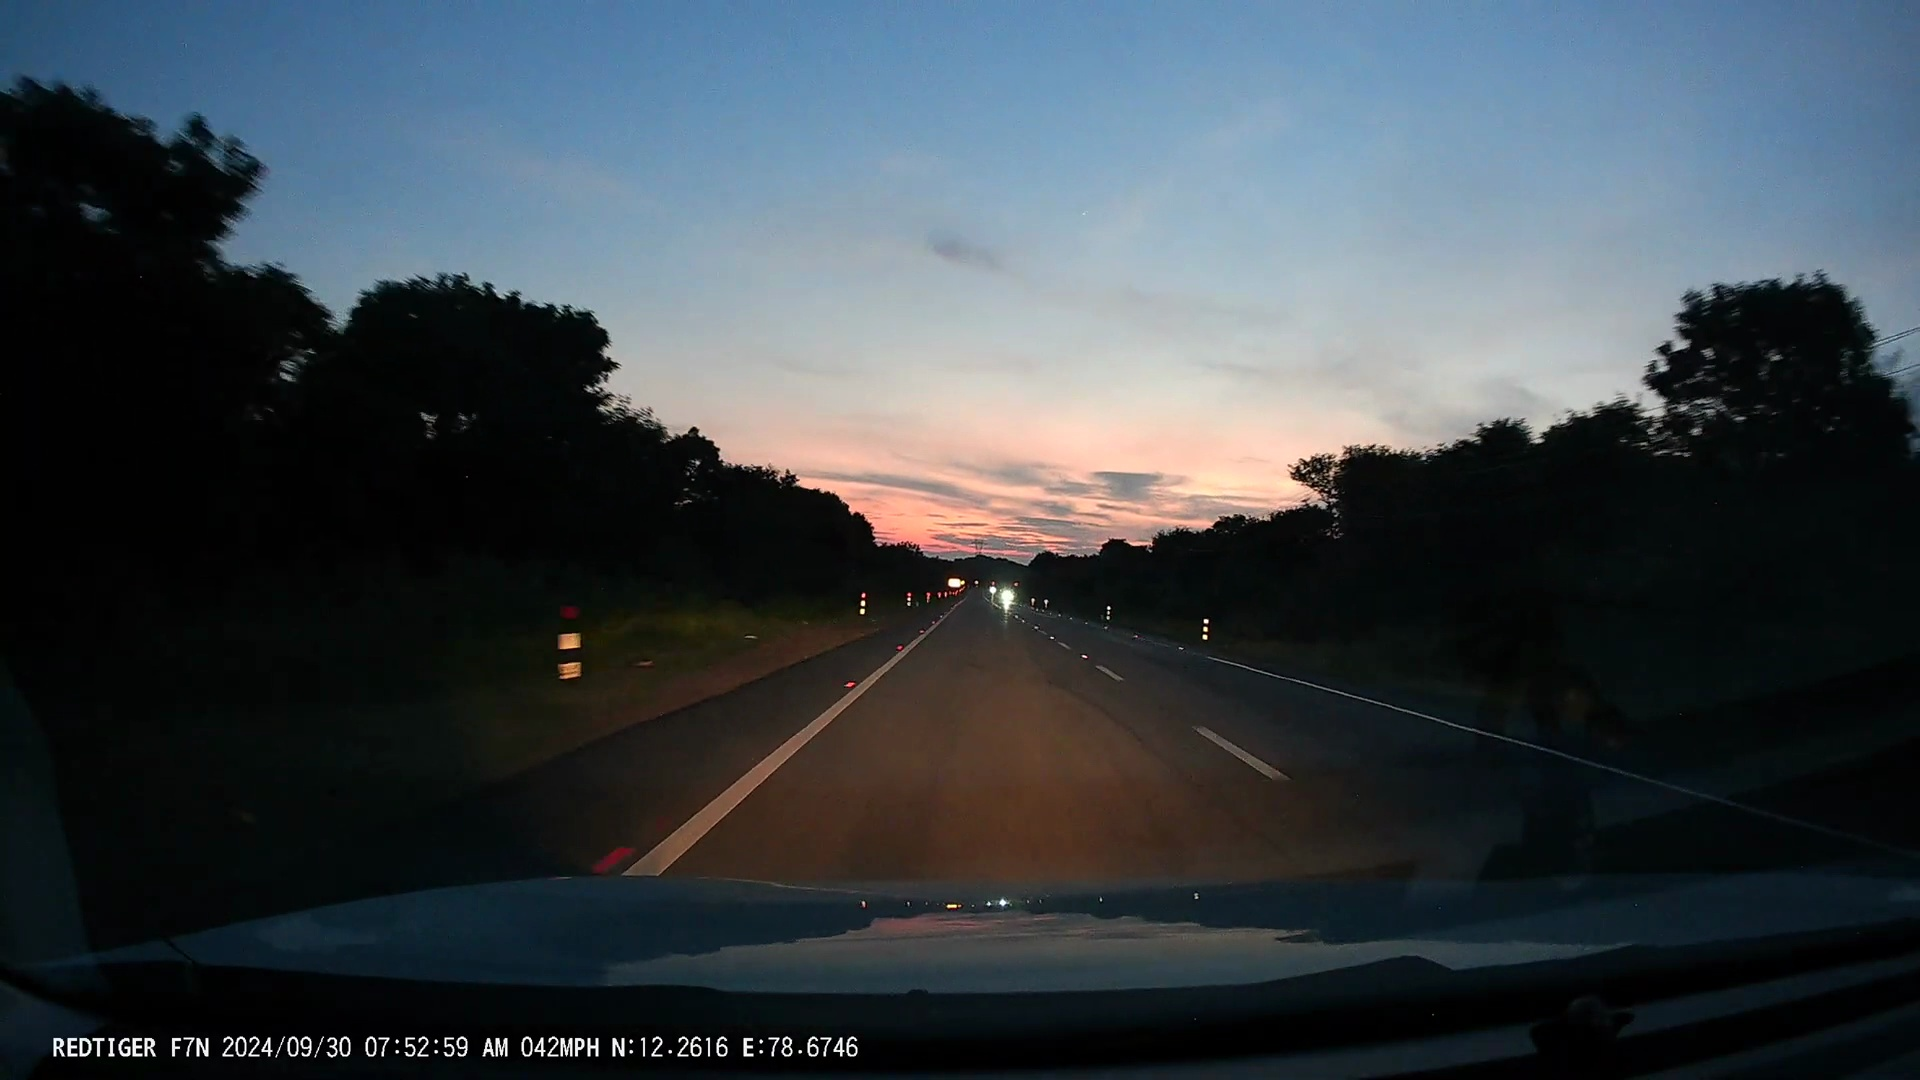headlight: (1001, 589, 1017, 604), (988, 585, 997, 595)
two wheeler: (982, 582, 1022, 612)
